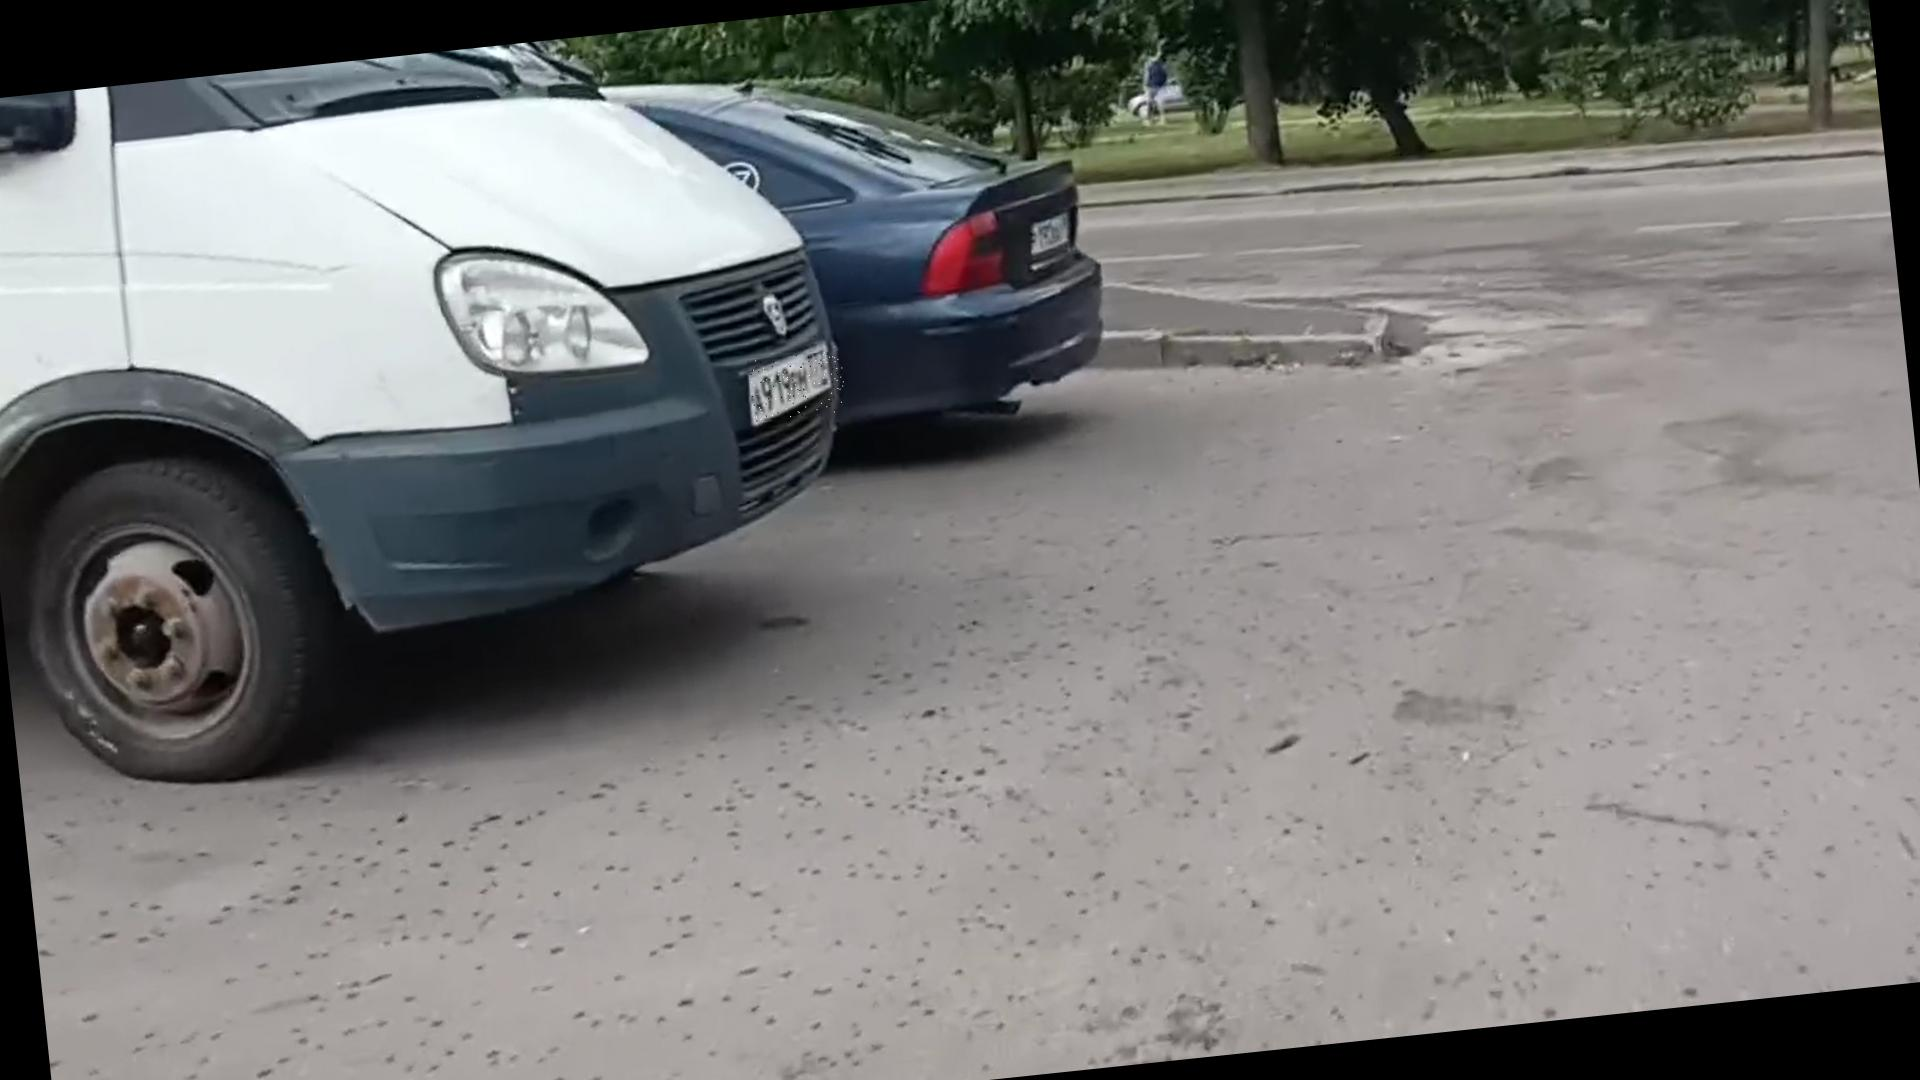plate: (749, 352, 850, 424)
